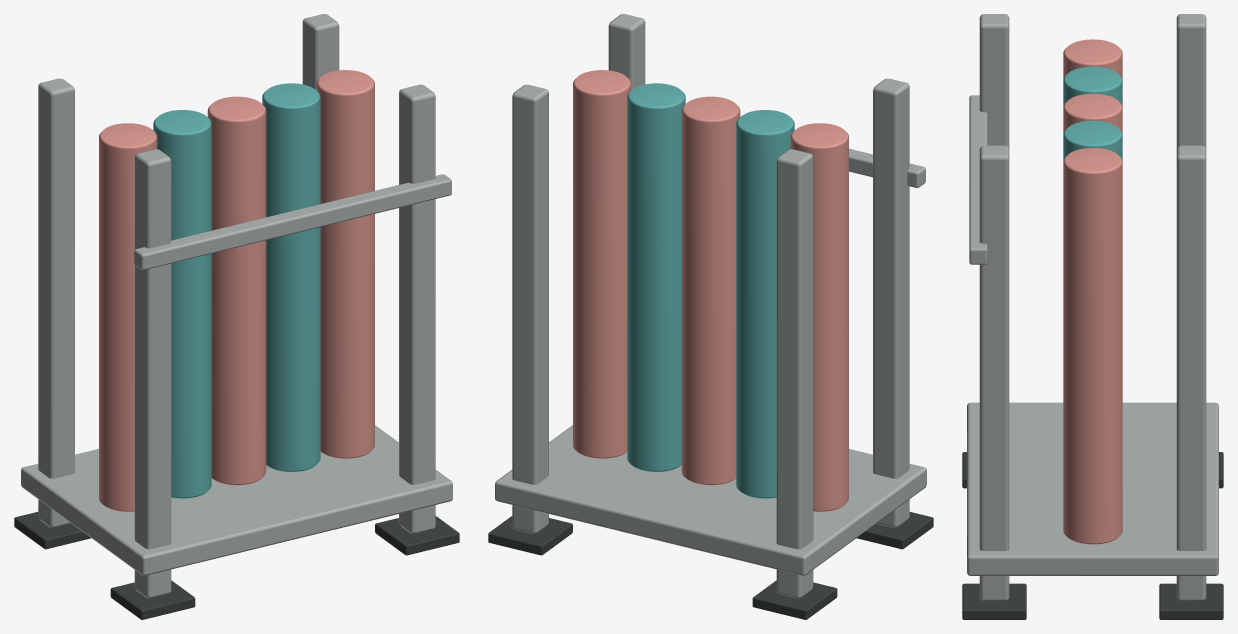
The model's file is indoor-climbing-and-bouldering-gym-indoor-climbing-and-ec2bf19f__31553.glb.
3 renders of one model, left to right at view 1: azimuth 30°, elevation 25°; view 2: azimuth 150°, elevation 25°; view 3: azimuth 270°, elevation 25°, orthographic. The views are drawn at different scales.
Parts seen in each view (by area): view 1: indoor-climbing-and-bouldering-gym-stretching-mat-rack; view 2: indoor-climbing-and-bouldering-gym-stretching-mat-rack; view 3: indoor-climbing-and-bouldering-gym-stretching-mat-rack.
Boxes of the visible parts, bbox=[...] form: indoor-climbing-and-bouldering-gym-stretching-mat-rack: bbox=[14, 14, 459, 619]; indoor-climbing-and-bouldering-gym-stretching-mat-rack: bbox=[488, 14, 933, 619]; indoor-climbing-and-bouldering-gym-stretching-mat-rack: bbox=[962, 14, 1223, 619].
Size of the model in its own units: 0.82 by 1.1 by 0.57.
